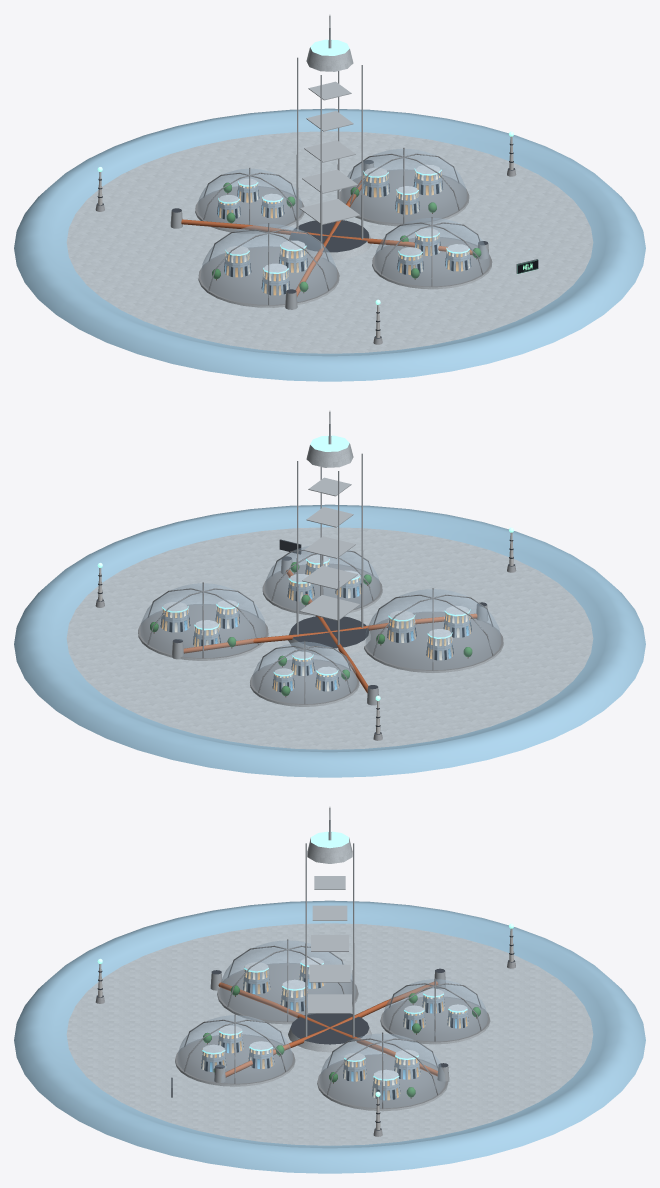
Rendered from europa_drill_town.glb.
3 views of the same model, one above another, from view 1: azimuth 30°, elevation 25°; view 2: azimuth 150°, elevation 25°; view 3: azimuth 270°, elevation 25° (orthographic).
Parts seen in each view (by area): view 1: europa_drill_town_LOD0; view 2: europa_drill_town_LOD0; view 3: europa_drill_town_LOD0.
Part boxes in pixels (x1,y1,x2,y2): europa_drill_town_LOD0: [14, 15, 645, 381]; europa_drill_town_LOD0: [14, 411, 645, 777]; europa_drill_town_LOD0: [14, 807, 645, 1173].
Size of what is drawn, in the model's own units: 120 by 51 by 120.
4 materials, 3 textured.
